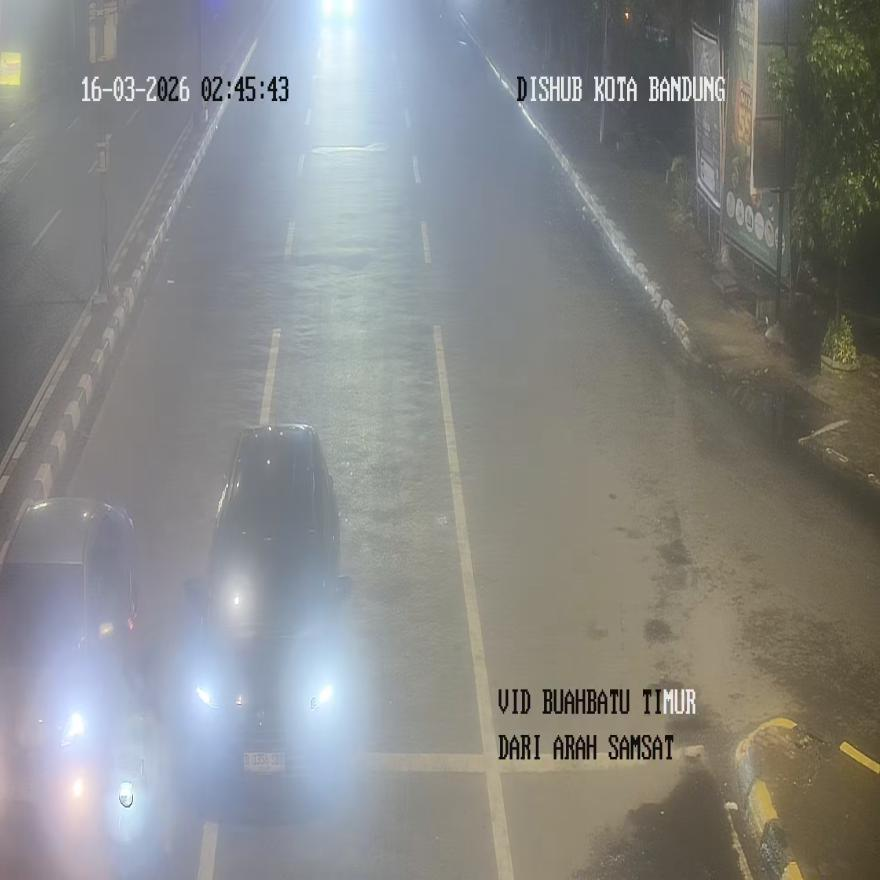Motor: (183, 425, 354, 795), (0, 497, 141, 841)
